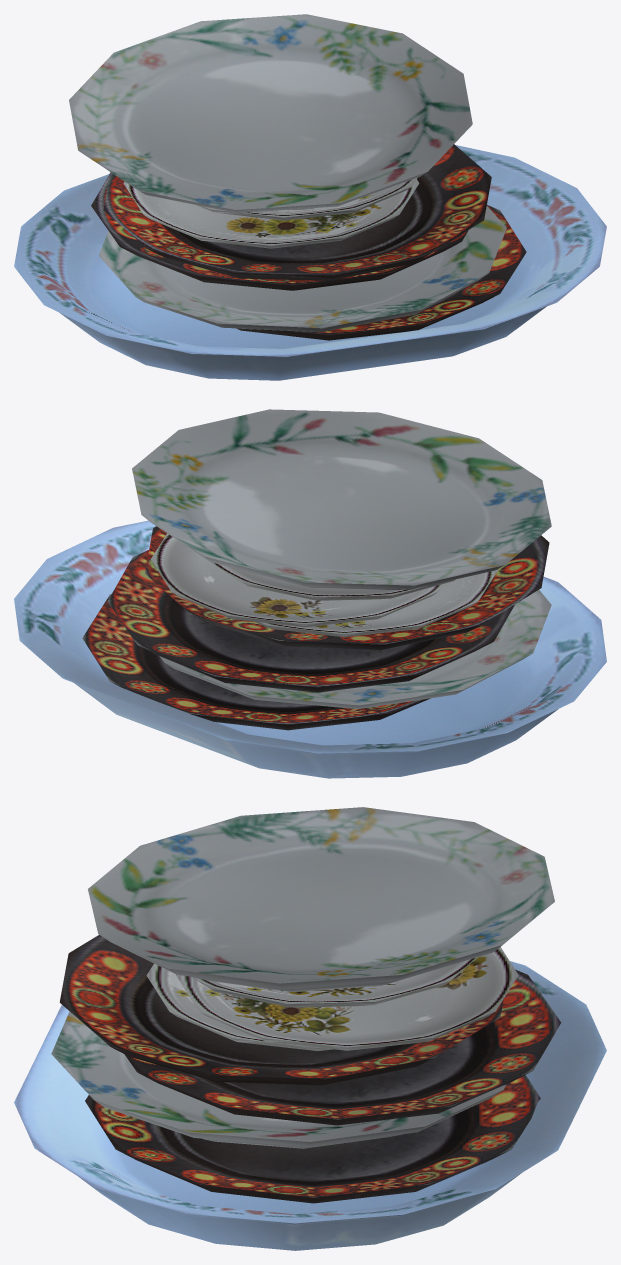
File: stack_dishes-1.FBX
The picture shows the model from 3 angles, top to bottom: view 1: azimuth 30°, elevation 25°; view 2: azimuth 150°, elevation 25°; view 3: azimuth 270°, elevation 25°; orthographic projection. The views are drawn at different scales.
Parts seen in each view (by area): view 1: stack_dishes-1_LOD0; view 2: stack_dishes-1_LOD0; view 3: stack_dishes-1_LOD0.
Part boxes in pixels (bbox=[...]): stack_dishes-1_LOD0: bbox=[14, 14, 606, 380]; stack_dishes-1_LOD0: bbox=[14, 409, 606, 778]; stack_dishes-1_LOD0: bbox=[14, 807, 606, 1250].
Size of what is drawn, in the model's own units: 25.38 by 10.1 by 21.66.
